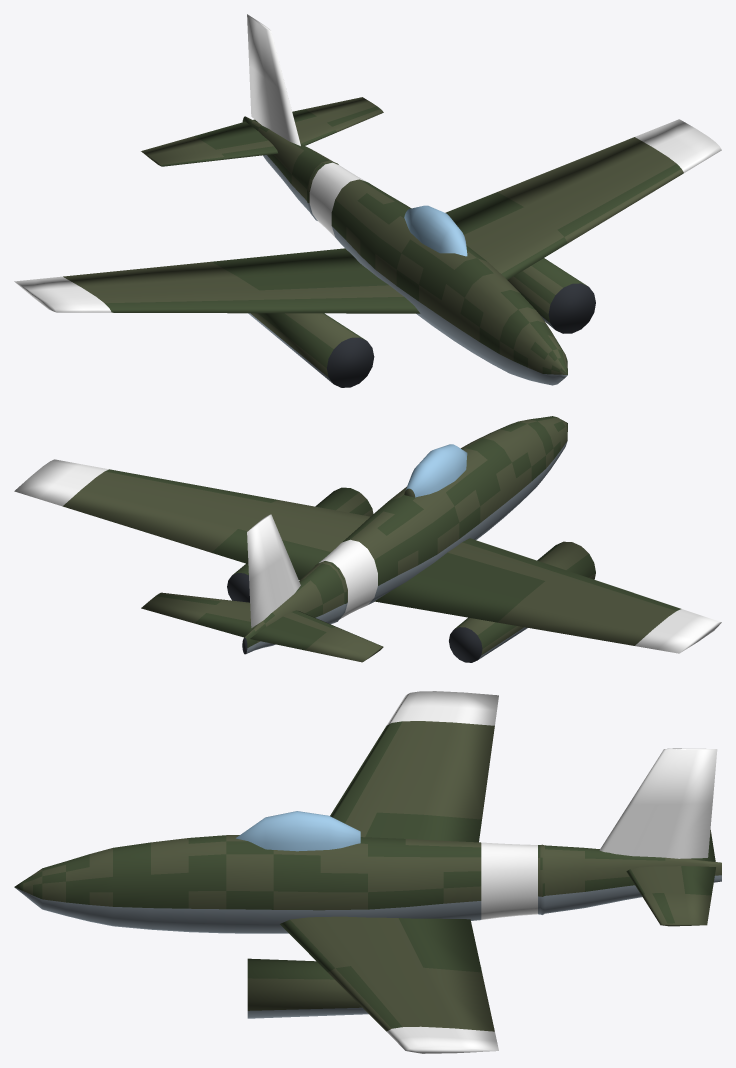
The picture shows the model from 3 angles, top to bottom: view 1: azimuth 30°, elevation 25°; view 2: azimuth 150°, elevation 25°; view 3: azimuth 270°, elevation 25°; orthographic projection. The views are drawn at different scales.
Visible parts, largest first — view 1: body; view 2: body; view 3: body.
Boxes of the visible parts, box(x1,y1,x2,y2) form: body: box(14, 14, 721, 387); body: box(14, 416, 721, 662); body: box(14, 691, 721, 1053).
Bounding box in the file's own units: 12.6 × 3.43 × 10.6.
